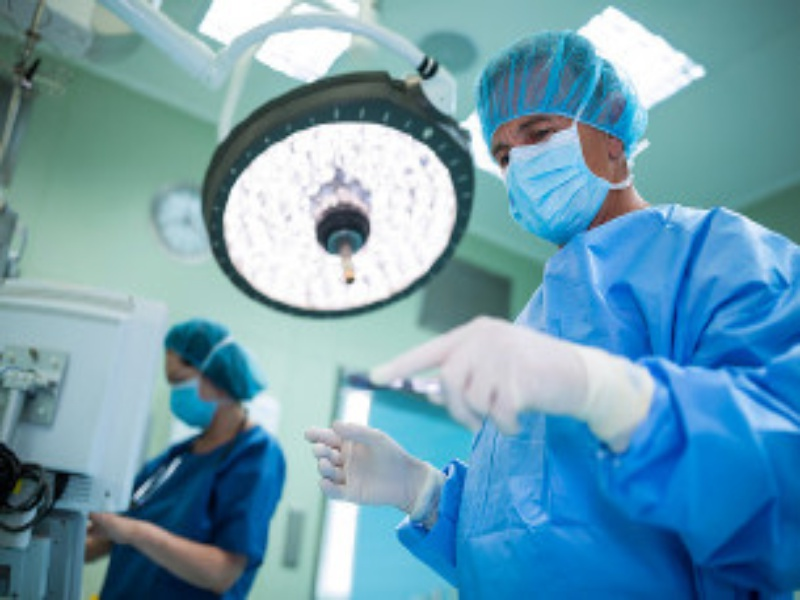mask: (470, 28, 653, 230), (159, 313, 253, 429)
